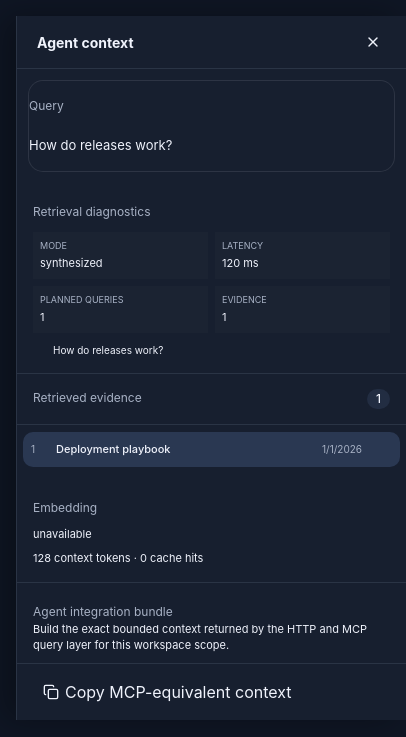
it: Context panel copy action confirms successful copy
The width and height of the screenshot is (406, 737).
Click the button with aria-label "Copy agent context": x=167, y=692 [33,676,302,708]
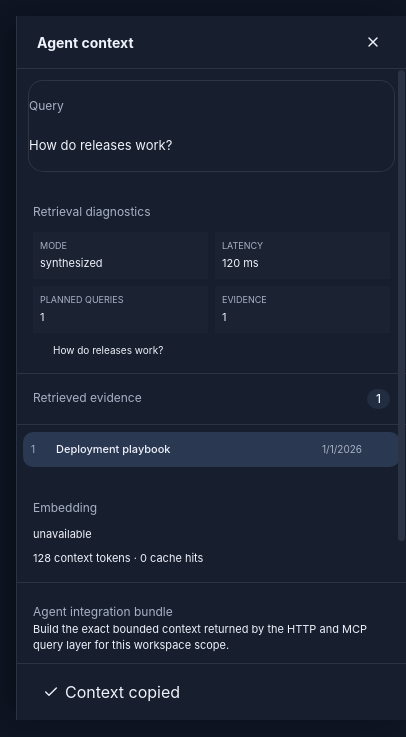
Now the button "Context copied" is shown, box [33,676,190,708]
